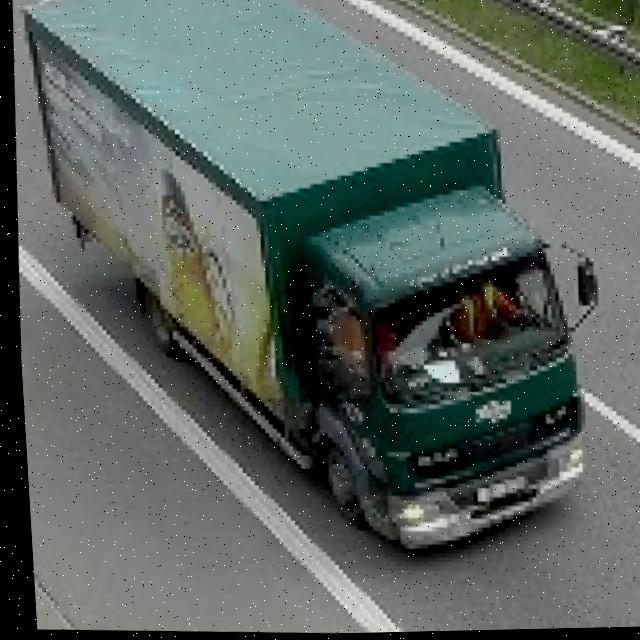truck: (8, 0, 615, 562)
